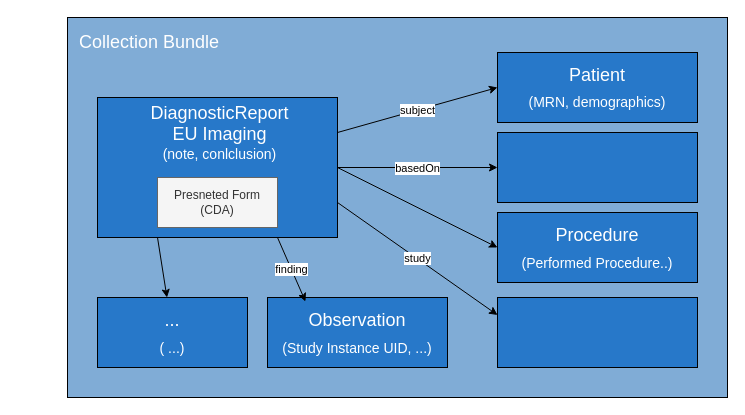
This 745x415 diagram has some shape labels left out. The shapes that lost their labels are listed below. From the top down, each one's centre as x and y in pixels, then its label:
(597,167): ServiceRequest (AccessionNo, requested procedure)
(597,332): ImagingStudy (Study Instance UID, ...)
